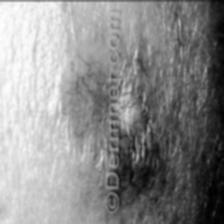Potentially Malignant Skin Tumors: (70, 42, 106, 163), (121, 51, 150, 143)
